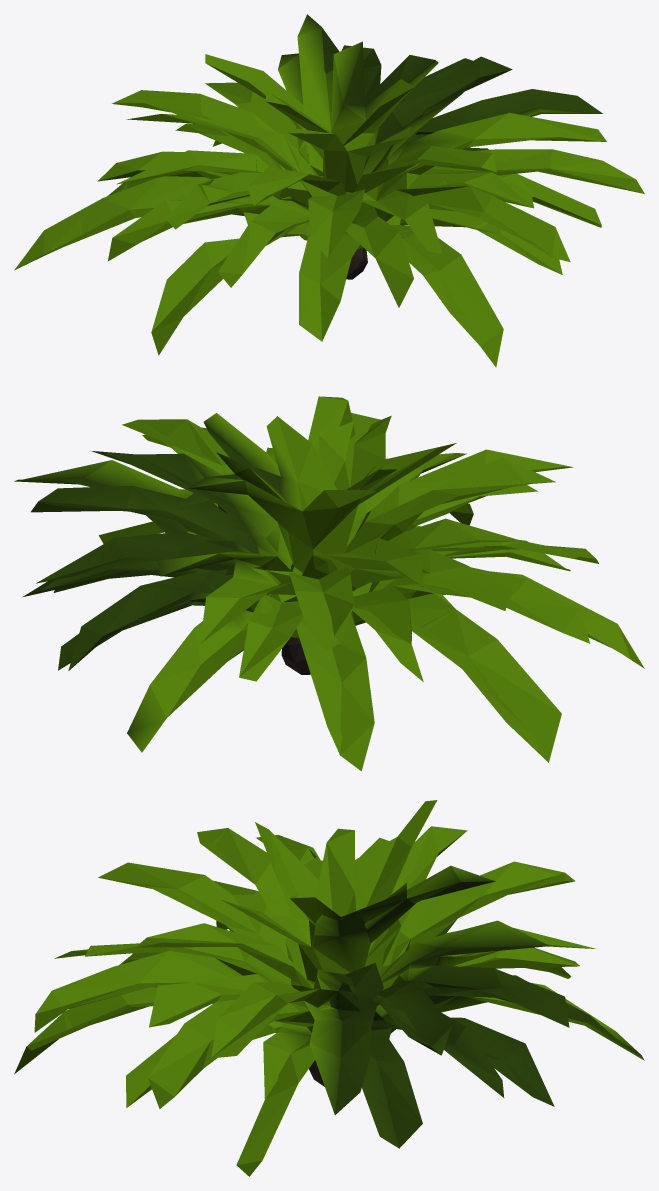
The model's file is ground-palm.glb.
The picture shows the model from 3 angles, top to bottom: view 1: azimuth 30°, elevation 25°; view 2: azimuth 150°, elevation 25°; view 3: azimuth 270°, elevation 25°; orthographic projection. The views are drawn at different scales.
Visible parts, largest first — view 1: PaperTrees.048; view 2: PaperTrees.048; view 3: PaperTrees.048.
Boxes of the visible parts, x1,y1,x2,y2 form: PaperTrees.048: [14, 14, 644, 367]; PaperTrees.048: [14, 396, 644, 771]; PaperTrees.048: [14, 800, 644, 1176].
Size of the model in its own units: 15.43 by 5.78 by 14.37.
